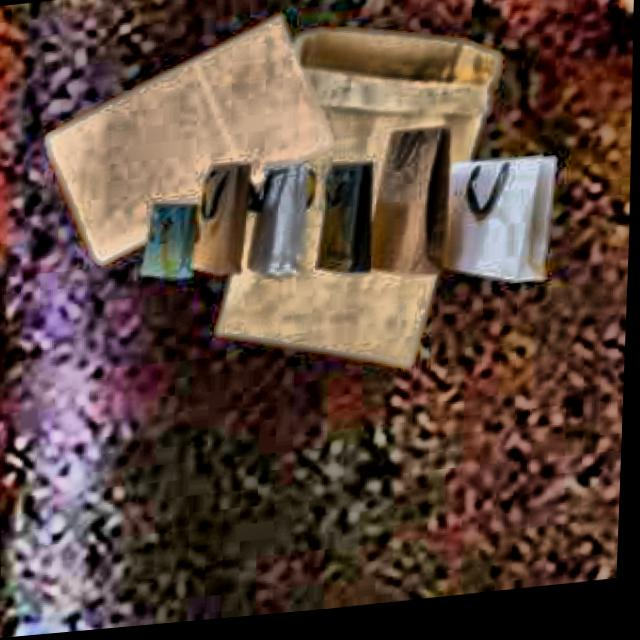Paper-bag: (17, 0, 589, 428)
